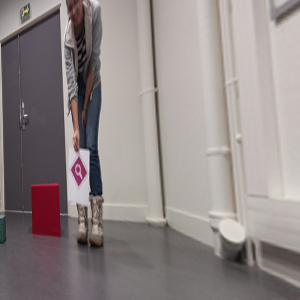search: (69, 155, 89, 187)
